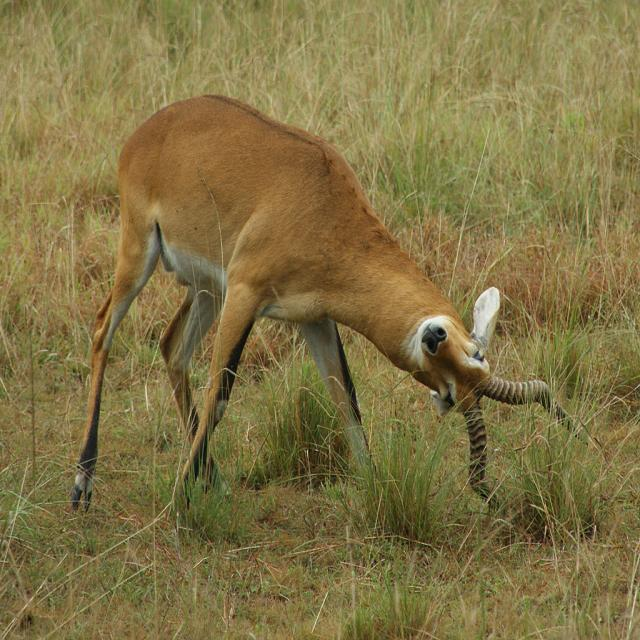Deer: (71, 93, 589, 517)
